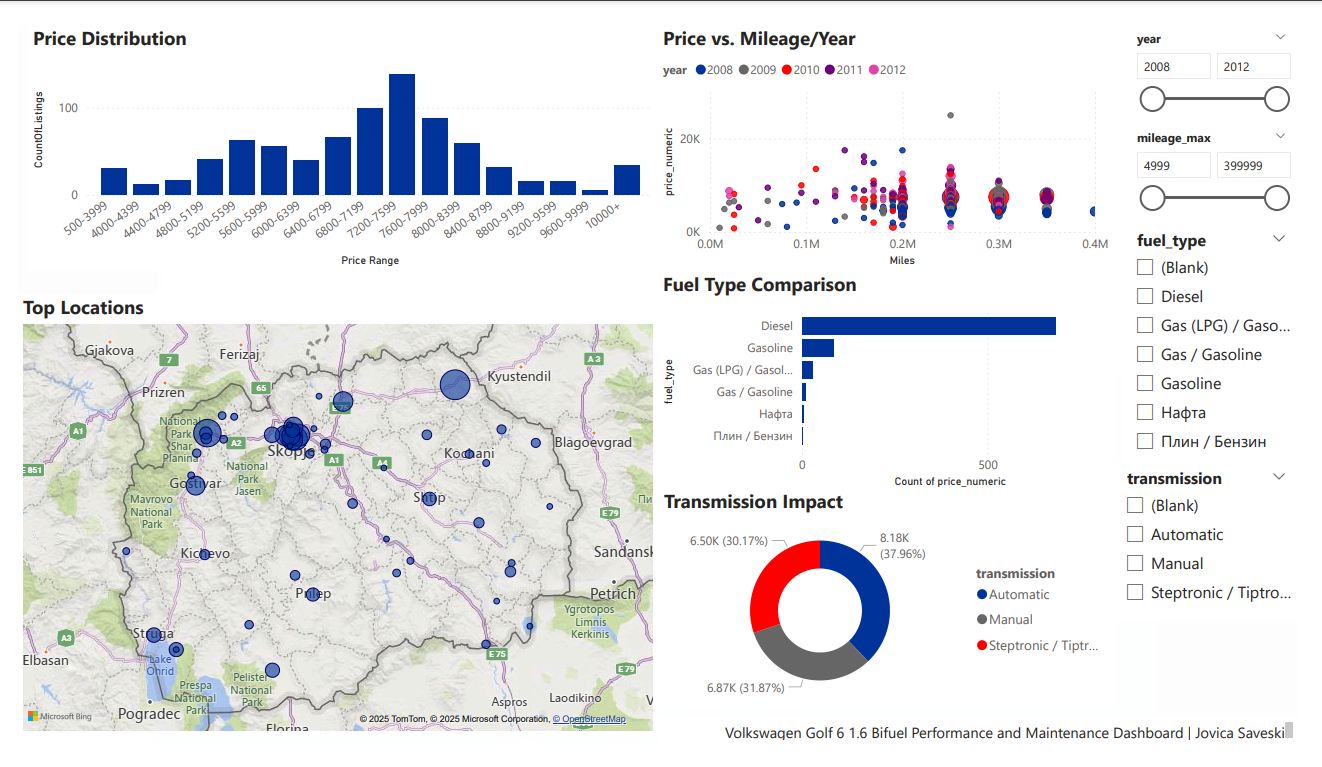

This screenshot's page, from the dashboard's own definition file:
{"tool":"powerbi","page":{"name":"Market Overview","canvas":[1280,720],"ordinal":0},"visuals":[{"type":"clusteredColumnChart","title":"Price Distribution","fields":{"Category":["sequential_car_listings_cleaned.Price Range"],"Y":["sequential_car_listings_cleaned.CountOfListings"]},"box":[9.6,0,630.4,245.6],"z":0},{"type":"scatterChart","title":"Price vs. Mileage/Year","fields":{"X":["Max(sequential_car_listings_cleaned.mileage_max)"],"Y":["sequential_car_listings_cleaned.price_numeric"],"Size":["sequential_car_listings_cleaned.CountOfListings"],"Series":["sequential_car_listings_cleaned.year"]},"box":[640,0,456.1,245.6],"z":1000},{"type":"barChart","title":"Fuel Type Comparison","fields":{"Category":["sequential_car_listings_cleaned.fuel_type"],"Y":["CountNonNull(sequential_car_listings_cleaned.price_numeric)"]},"box":[640,246,456,221],"z":2000},{"type":"donutChart","title":"Transmission Impact","fields":{"Category":["sequential_car_listings_cleaned.transmission"],"Y":["Avg(sequential_car_listings_cleaned.price_numeric)"]},"box":[641,463,456,220],"z":3000},{"type":"map","title":"Top Locations","fields":{"Category":["sequential_car_listings_cleaned.location"],"Size":["sequential_car_listings_cleaned.CountOfListings"]},"box":[0,269,640,442.3],"z":4000},{"type":"slicer","fields":{"Values":["sequential_car_listings_cleaned.fuel_type"]},"box":[1105.6,198.8,174.4,238.1],"z":5000},{"type":"slicer","fields":{"Values":["sequential_car_listings_cleaned.transmission"]},"box":[1096.1,436.9,183.9,159.5],"z":6000},{"type":"slicer","fields":{"Values":["sequential_car_listings_cleaned.mileage_max"]},"box":[1105.6,98.9,174.4,99.9],"z":7000},{"type":"slicer","fields":{"Values":["sequential_car_listings_cleaned.year"]},"box":[1105.6,0,174.4,98.9],"z":8000},{"type":"textbox","box":[640,692,640,28],"z":9000}]}

Visuals, with their boxes on the page's 1280x720 design canvas (x1, y1, x2, y2). These are canvas units, not pixel positions in the 1322x767 screenshot, which may show the page scaled, cropped or inside an application window:
"Price Distribution" clusteredColumnChart: (left=10, top=0, right=640, bottom=246)
"Price vs. Mileage/Year" scatterChart: (left=640, top=0, right=1096, bottom=246)
"Fuel Type Comparison" barChart: (left=640, top=246, right=1096, bottom=467)
"Transmission Impact" donutChart: (left=641, top=463, right=1097, bottom=683)
"Top Locations" map: (left=0, top=269, right=640, bottom=711)
slicer - sequential_car_listings_cleaned.fuel_type: (left=1106, top=199, right=1280, bottom=437)
slicer - sequential_car_listings_cleaned.transmission: (left=1096, top=437, right=1280, bottom=596)
slicer - sequential_car_listings_cleaned.mileage_max: (left=1106, top=99, right=1280, bottom=199)
slicer - sequential_car_listings_cleaned.year: (left=1106, top=0, right=1280, bottom=99)
textbox: (left=640, top=692, right=1280, bottom=720)
